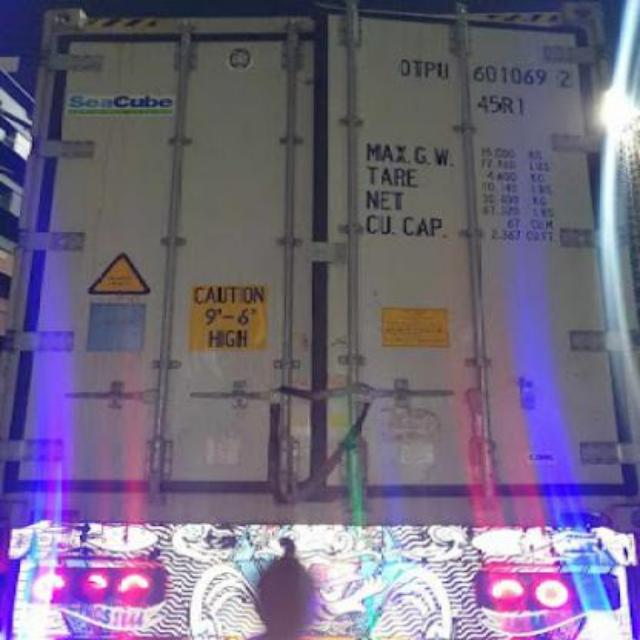0: (508, 60, 524, 90), (484, 59, 498, 86)
1: (498, 60, 510, 90)
2: (556, 62, 576, 92)
6: (522, 62, 534, 92), (472, 62, 484, 82)
9: (532, 66, 550, 90)
O: (398, 56, 412, 80)
P: (422, 47, 436, 87)
T: (410, 54, 422, 84)
U: (436, 54, 452, 90)
